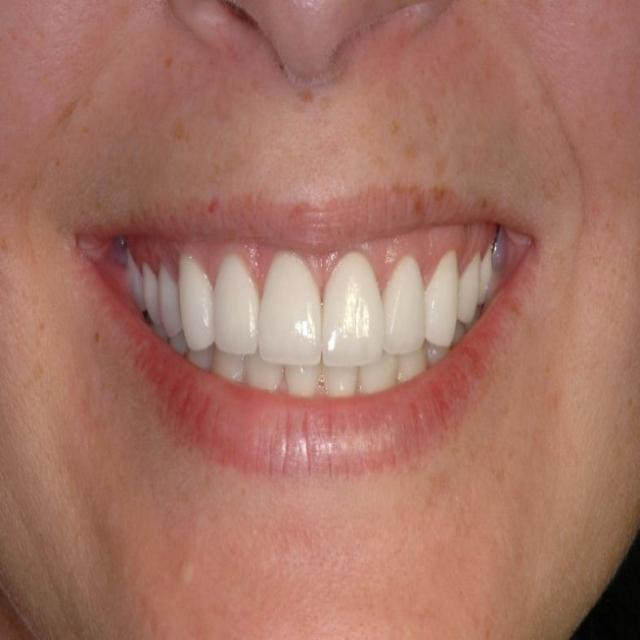tooth: (258, 246, 321, 364), (321, 251, 383, 360), (211, 254, 258, 350), (381, 252, 426, 350), (420, 251, 462, 341), (182, 256, 220, 352), (458, 251, 488, 328), (157, 260, 180, 338), (242, 354, 285, 394), (471, 244, 500, 302), (140, 250, 160, 332), (323, 358, 362, 398), (360, 359, 399, 393), (288, 361, 322, 399), (126, 245, 144, 312), (216, 350, 247, 385), (186, 348, 216, 380), (164, 334, 188, 359), (425, 338, 452, 360), (400, 349, 422, 375)
